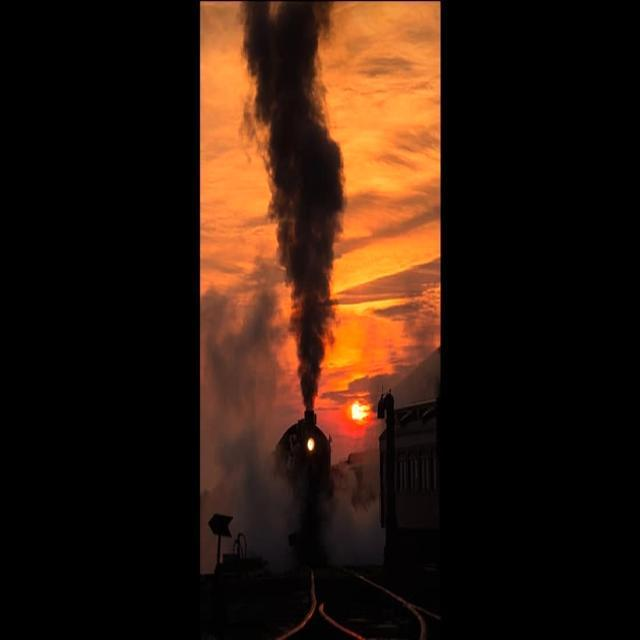Smoke: (234, 6, 374, 356), (199, 271, 296, 564), (327, 453, 387, 577)
